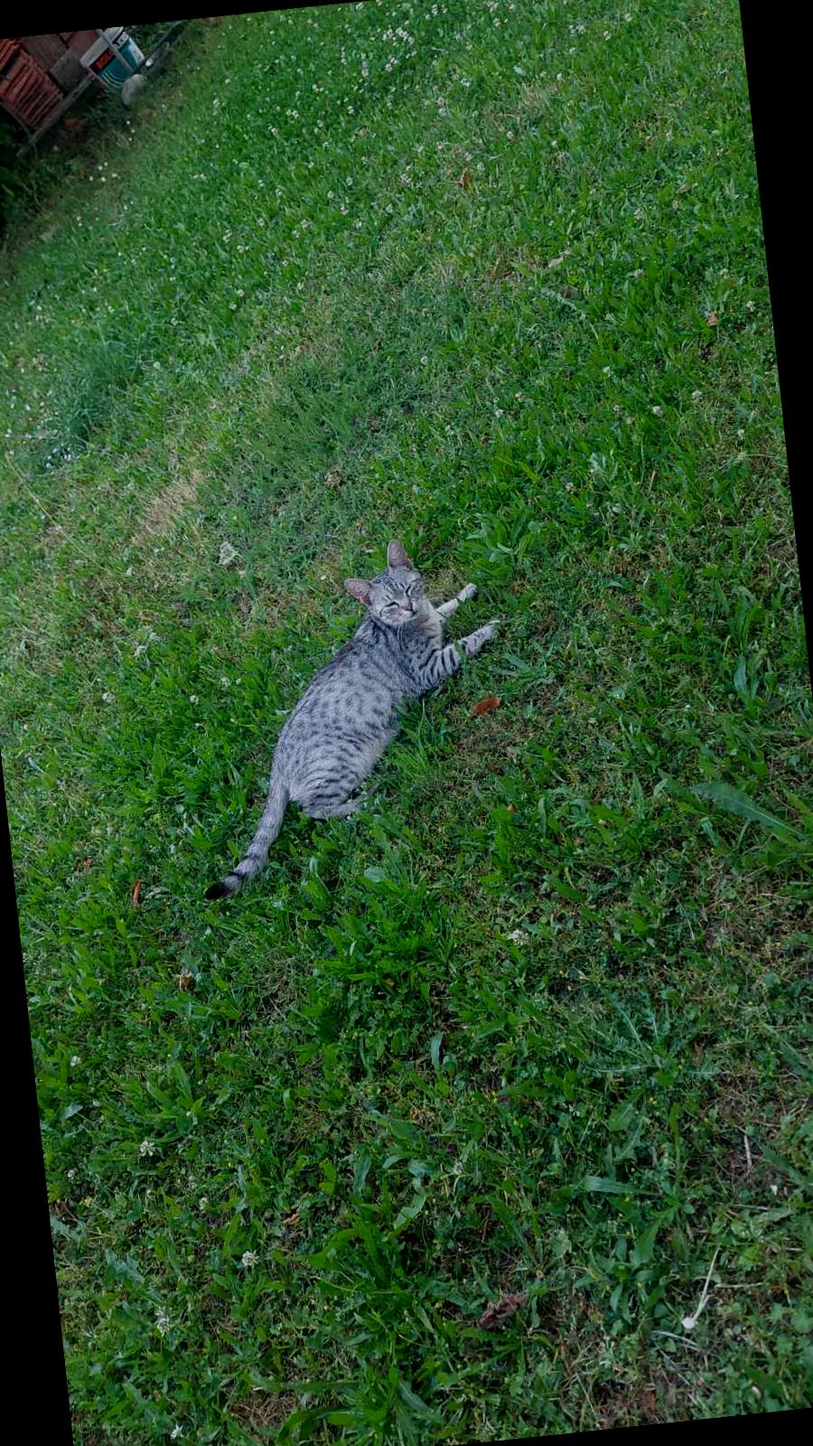macka: (171, 527, 528, 901)
